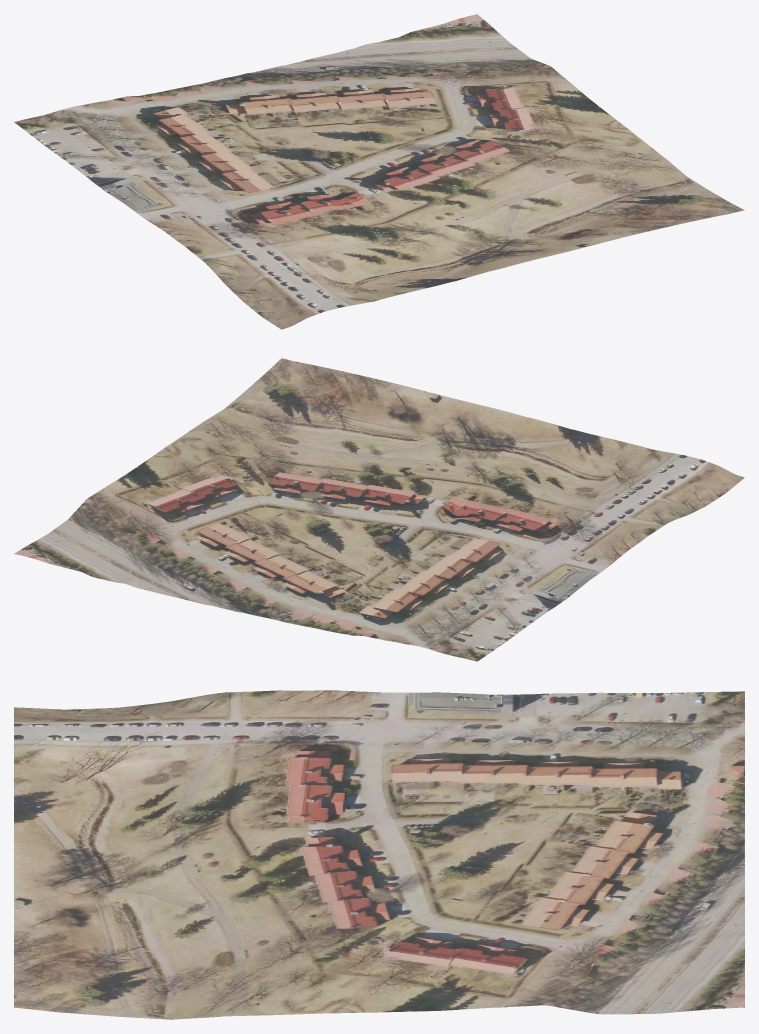
The model's file is CM_Terrain_24489025_6821636.fbx.
3 views of the same model, one above another, from view 1: azimuth 30°, elevation 25°; view 2: azimuth 150°, elevation 25°; view 3: azimuth 270°, elevation 25° (orthographic). The views are drawn at different scales.
Parts seen in each view (by area): view 1: CM_Terrain_24489025_6821636_LOD0; view 2: CM_Terrain_24489025_6821636_LOD0; view 3: CM_Terrain_24489025_6821636_LOD0.
Boxes of the visible parts, box(x1,y1,x2,y2) form: CM_Terrain_24489025_6821636_LOD0: box(14, 14, 744, 329); CM_Terrain_24489025_6821636_LOD0: box(14, 358, 744, 661); CM_Terrain_24489025_6821636_LOD0: box(14, 690, 744, 1019).
Size of what is drawn, in the model's own units: 205 by 7.7 by 205.
